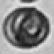correct: (1, 6, 49, 48)
